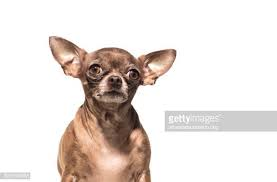chihuahua: (31, 11, 182, 182)
